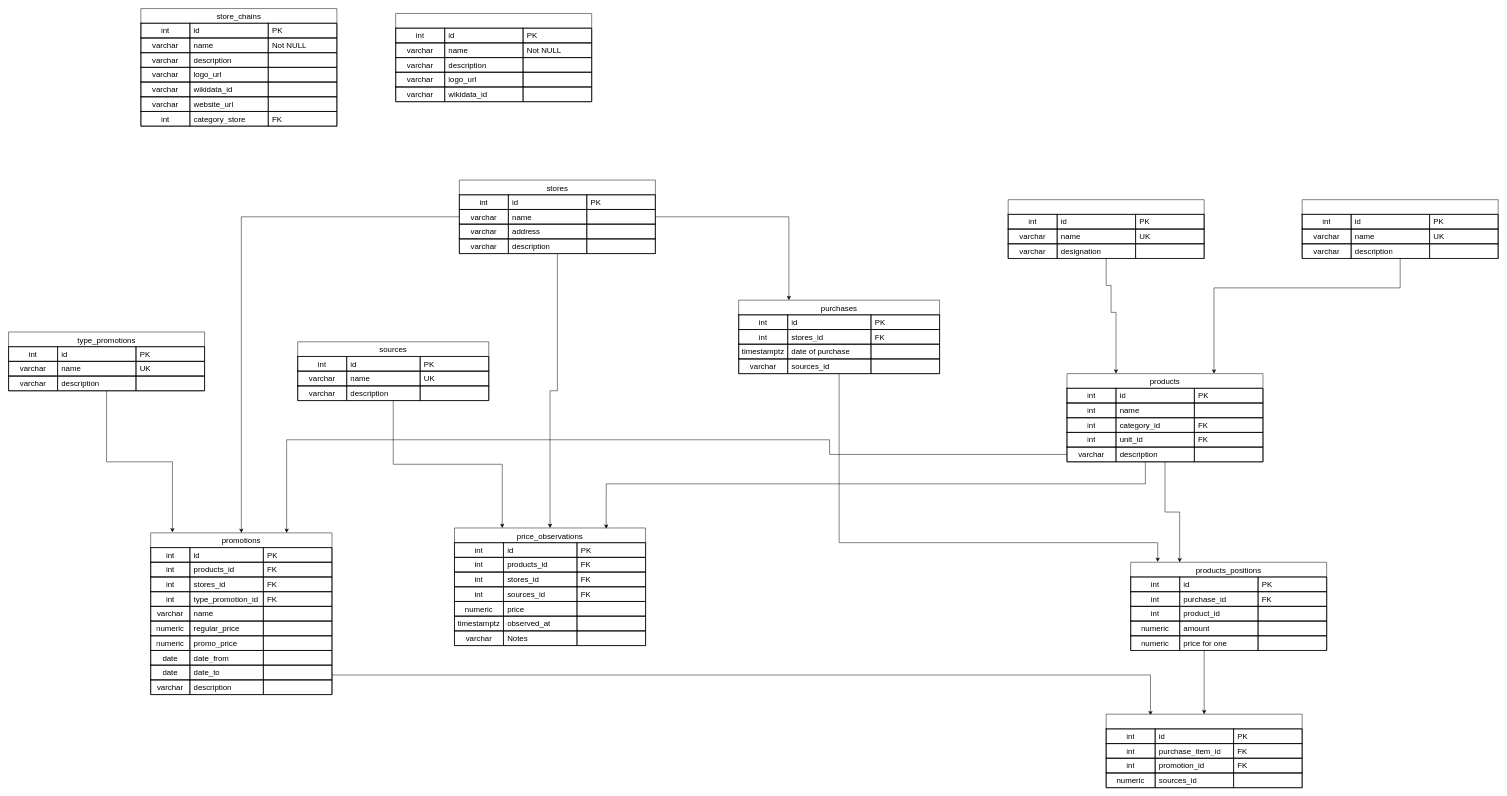
Image size: 1507x796. Some labels were removed from this diagram. The shapes that lost their labels are listed below. From the top down, each one's box as (x1, y1, x2, y2) in pixels, then its label:
(395, 13, 592, 102): brands
(1008, 199, 1204, 258): units
(1302, 199, 1498, 258): categories
(1106, 714, 1302, 788): promotion_usages
